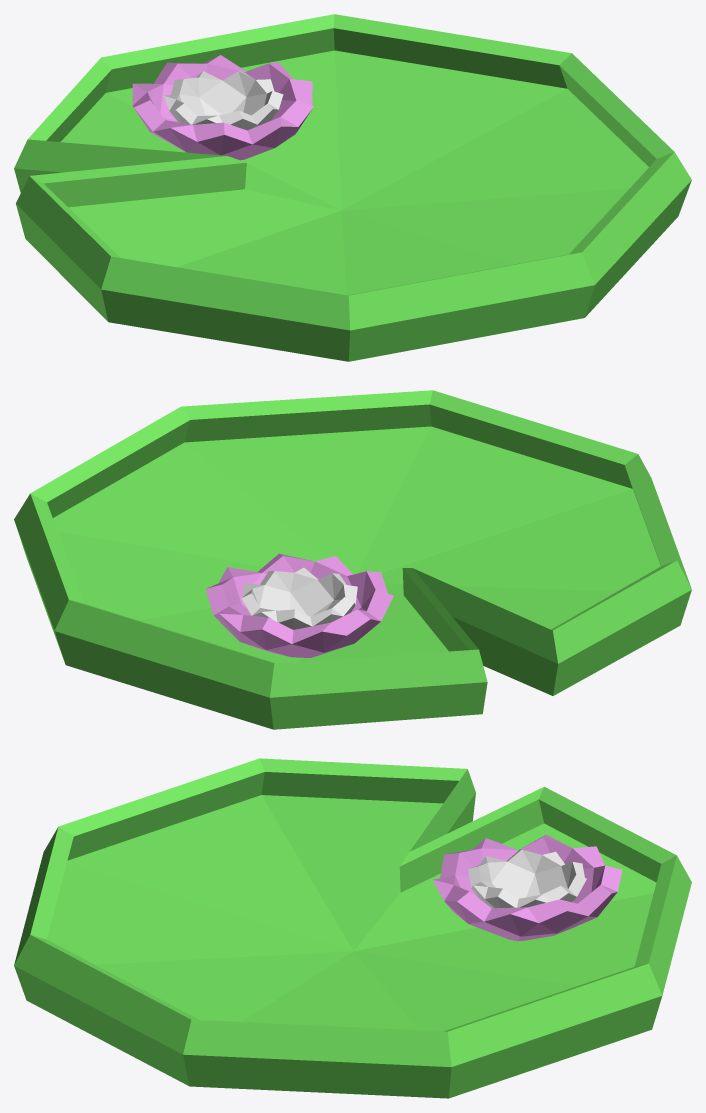
The model's file is ENV_LilypadLotus.fbx.
3 views of the same model, one above another, from view 1: azimuth 30°, elevation 25°; view 2: azimuth 150°, elevation 25°; view 3: azimuth 270°, elevation 25° (orthographic).
Parts seen in each view (by area): view 1: Circle.001; view 2: Circle.001; view 3: Circle.001.
Boxes of the visible parts, x1,y1,x2,y2 form: Circle.001: (14,14,691,361); Circle.001: (14,390,691,729); Circle.001: (14,758,691,1098).
Size of the model in its own units: 203 by 203 by 26.37.
